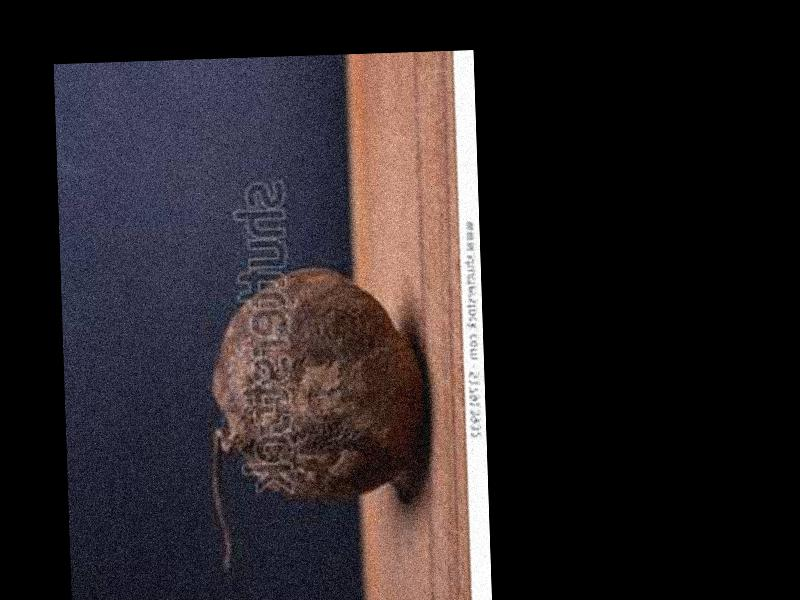Beet: (204, 265, 428, 575)
